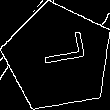L_W: (31, 38, 86, 77)
